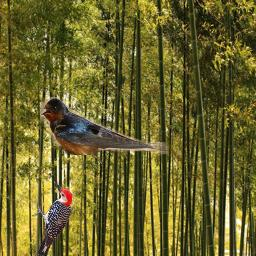Swallow: (40, 97, 168, 155)
Woodpecker: (32, 181, 72, 256)
